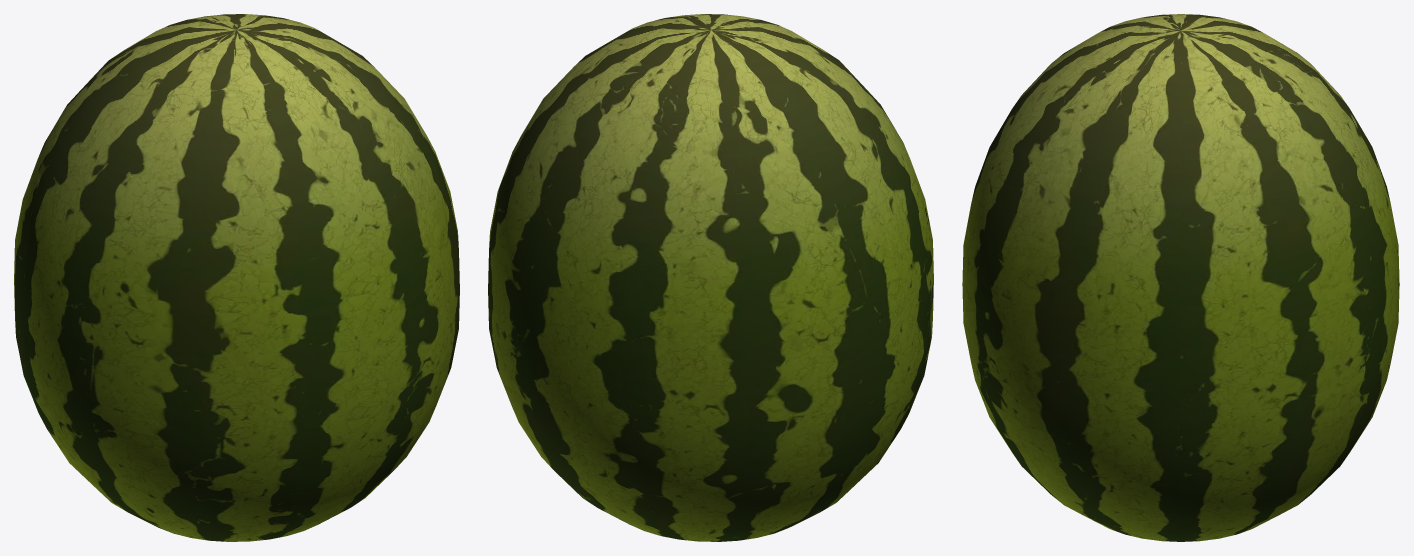
Rendered from watermelon.glb.
The picture shows the model from 3 angles, left to right: view 1: azimuth 30°, elevation 25°; view 2: azimuth 150°, elevation 25°; view 3: azimuth 270°, elevation 25°; orthographic projection.
Visible parts, largest first — view 1: Sketchfab Model; view 2: Sketchfab Model; view 3: Sketchfab Model.
Boxes of the visible parts, bbox=[...] form: Sketchfab Model: bbox=[14, 14, 459, 541]; Sketchfab Model: bbox=[488, 14, 933, 541]; Sketchfab Model: bbox=[962, 14, 1399, 541].
Size of the model in its own units: 1.98 by 2.4 by 1.93.
1 material, 1 textured.
